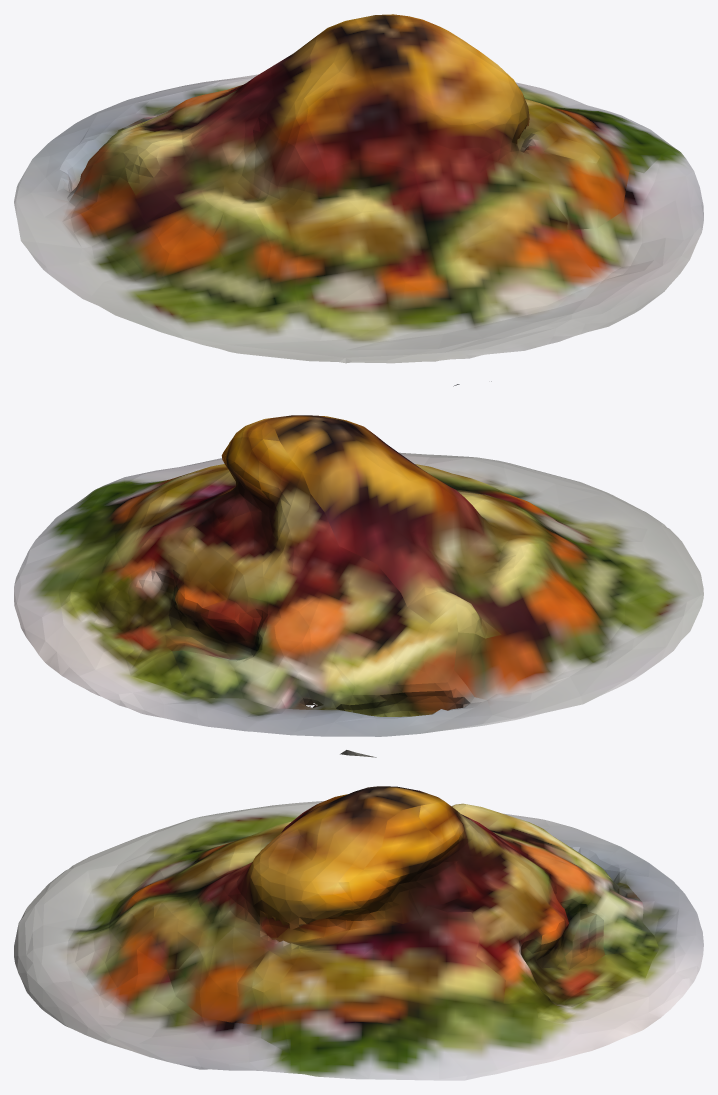
The model's file is fridatest2.gltf.
The picture shows the model from 3 angles, top to bottom: view 1: azimuth 30°, elevation 25°; view 2: azimuth 150°, elevation 25°; view 3: azimuth 270°, elevation 25°; orthographic projection.
Parts seen in each view (by area): view 1: Frisa; view 2: Frisa; view 3: Frisa.
Boxes of the visible parts, x1,y1,x2,y2 form: Frisa: (14,14,703,386); Frisa: (14,415,703,757); Frisa: (14,786,703,1080).
Size of the model in its own units: 0.1653 by 0.0539 by 0.169.
Materials: 1 (1 with a texture image).
